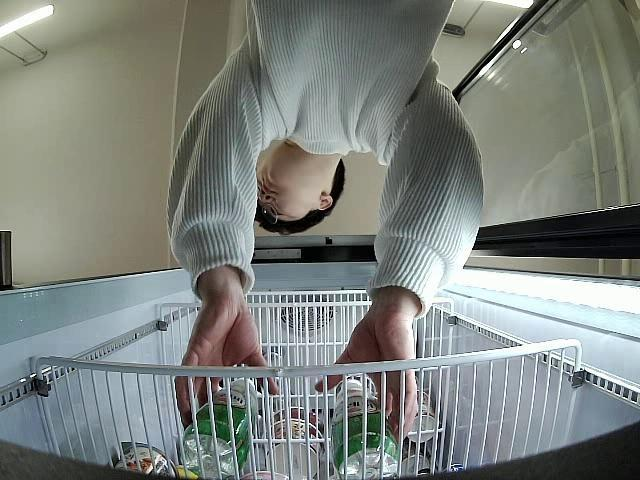18_trevi: (178, 378, 256, 476), (330, 380, 398, 480)
